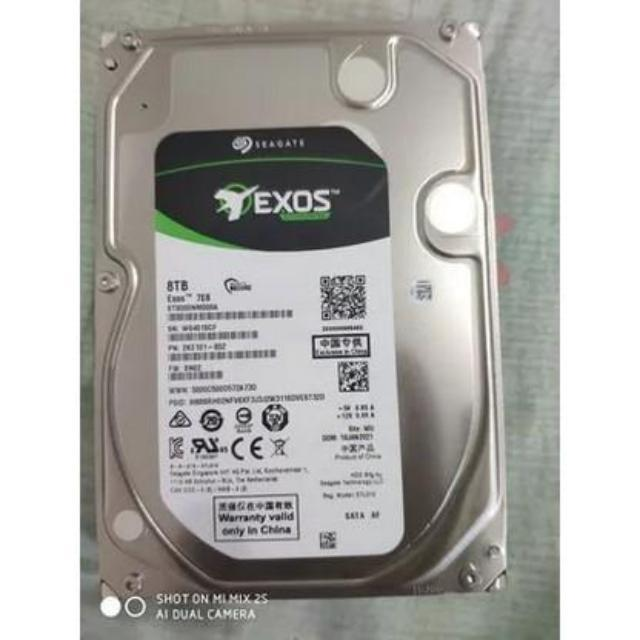DISK: (82, 16, 518, 610)
